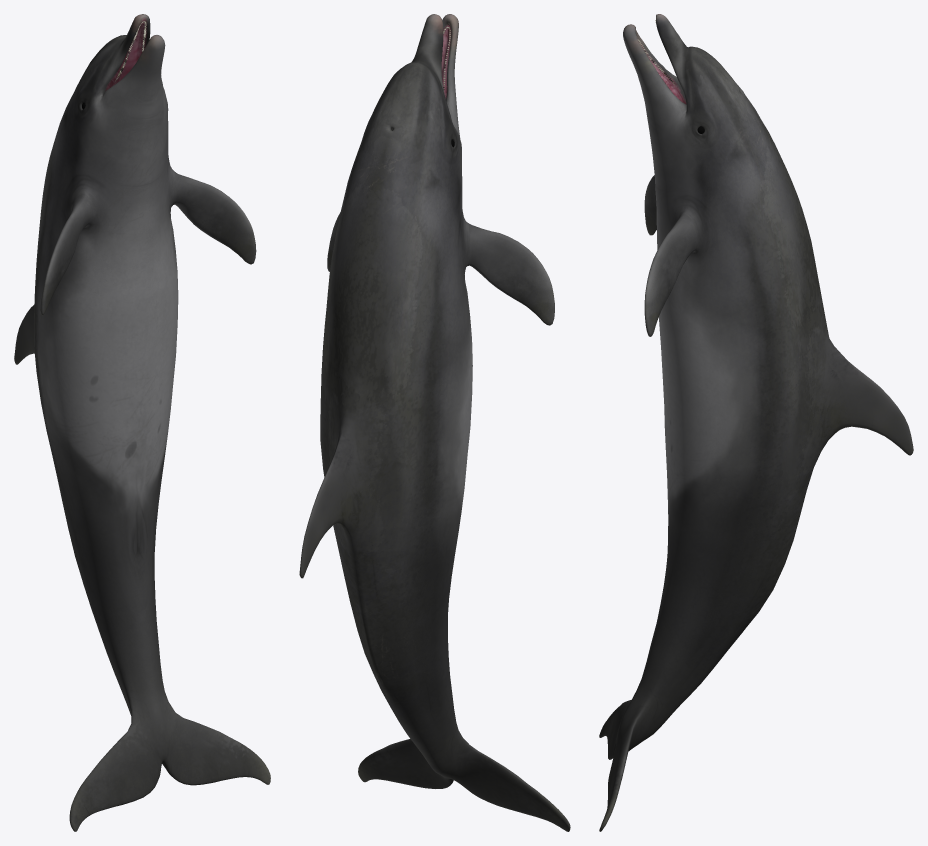
File: bottlenose-dolphin.fbx
The picture shows the model from 3 angles, left to right: view 1: azimuth 30°, elevation 25°; view 2: azimuth 150°, elevation 25°; view 3: azimuth 270°, elevation 25°; orthographic projection. The views are drawn at different scales.
Visible parts, largest first — view 1: dolphin_body_dolphin_body_0; view 2: dolphin_body_dolphin_body_0; view 3: dolphin_body_dolphin_body_0.
Boxes of the visible parts, left/top/right/bottom form: dolphin_body_dolphin_body_0: left=14, top=14, right=270, bottom=831; dolphin_body_dolphin_body_0: left=299, top=14, right=570, bottom=831; dolphin_body_dolphin_body_0: left=599, top=14, right=913, bottom=831.
Bounding box in the file's own units: 6844 × 23482 × 8692.
